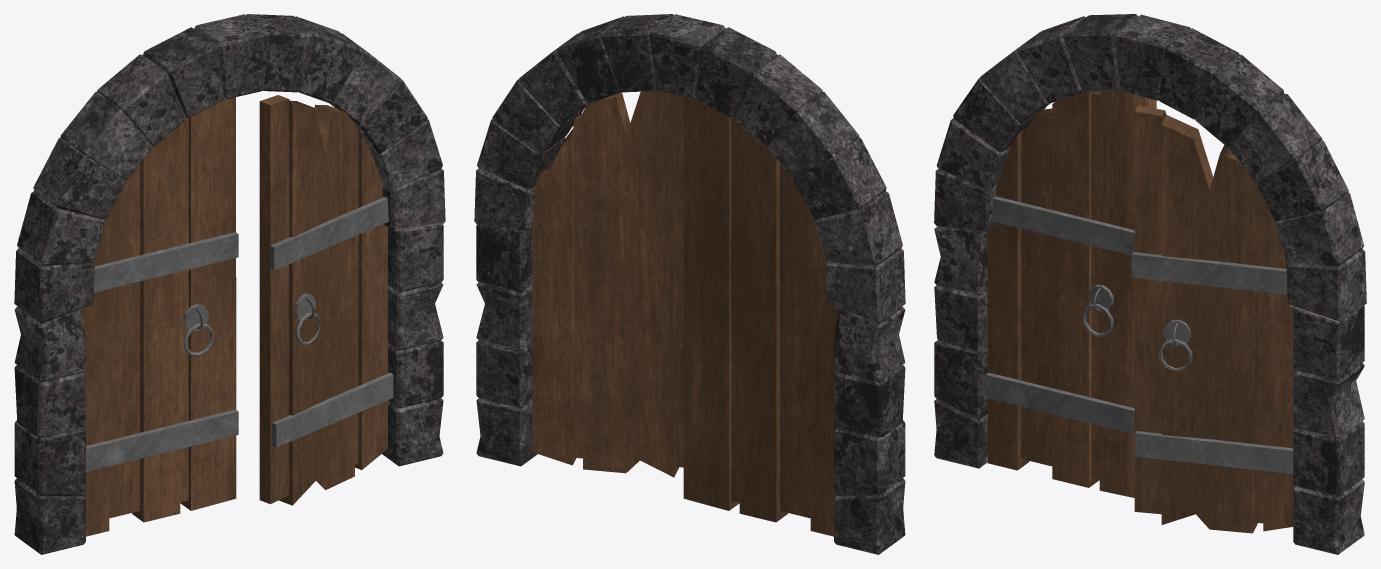
The model's file is BigDoor.fbx.
3 views of the same model, side by side, from view 1: azimuth 30°, elevation 25°; view 2: azimuth 150°, elevation 25°; view 3: azimuth 330°, elevation 25° (orthographic).
Parts seen in each view (by area): view 1: BigDoor; view 2: BigDoor; view 3: BigDoor.
Boxes of the visible parts, x1,y1,x2,y2 form: BigDoor: (14, 14, 445, 554); BigDoor: (474, 14, 905, 554); BigDoor: (934, 14, 1366, 554).
Bounding box in the file's own units: 3.02 × 3.32 × 0.5757.
Materials: 1 (1 with a texture image).
